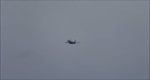maybay_muctieu: (63, 38, 79, 46)
